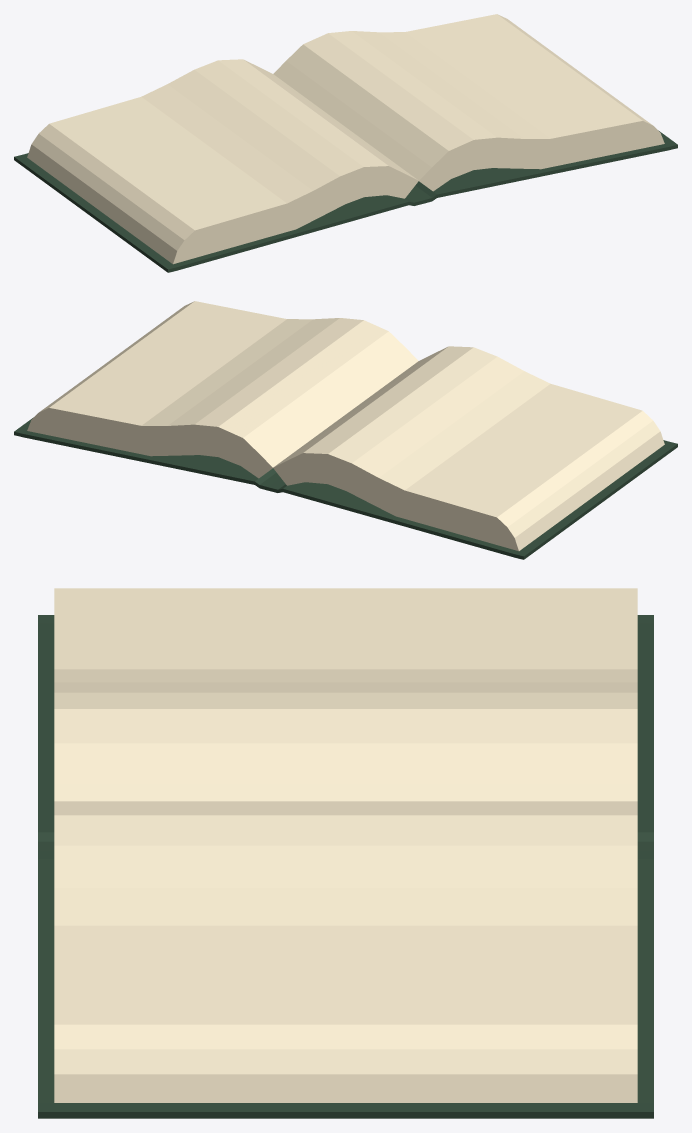
File: Book_open.fbx
The picture shows the model from 3 angles, top to bottom: view 1: azimuth 30°, elevation 25°; view 2: azimuth 150°, elevation 25°; view 3: azimuth 270°, elevation 25°; orthographic projection. The views are drawn at different scales.
Parts seen in each view (by area): view 1: Vert.019; view 2: Vert.019; view 3: Vert.019.
Boxes of the visible parts, x1,y1,x2,y2 form: Vert.019: (14,14,677,272); Vert.019: (14,301,677,559); Vert.019: (38,588,653,1118).
Size of the model in its own units: 0.969 by 0.5067 by 0.0988.
